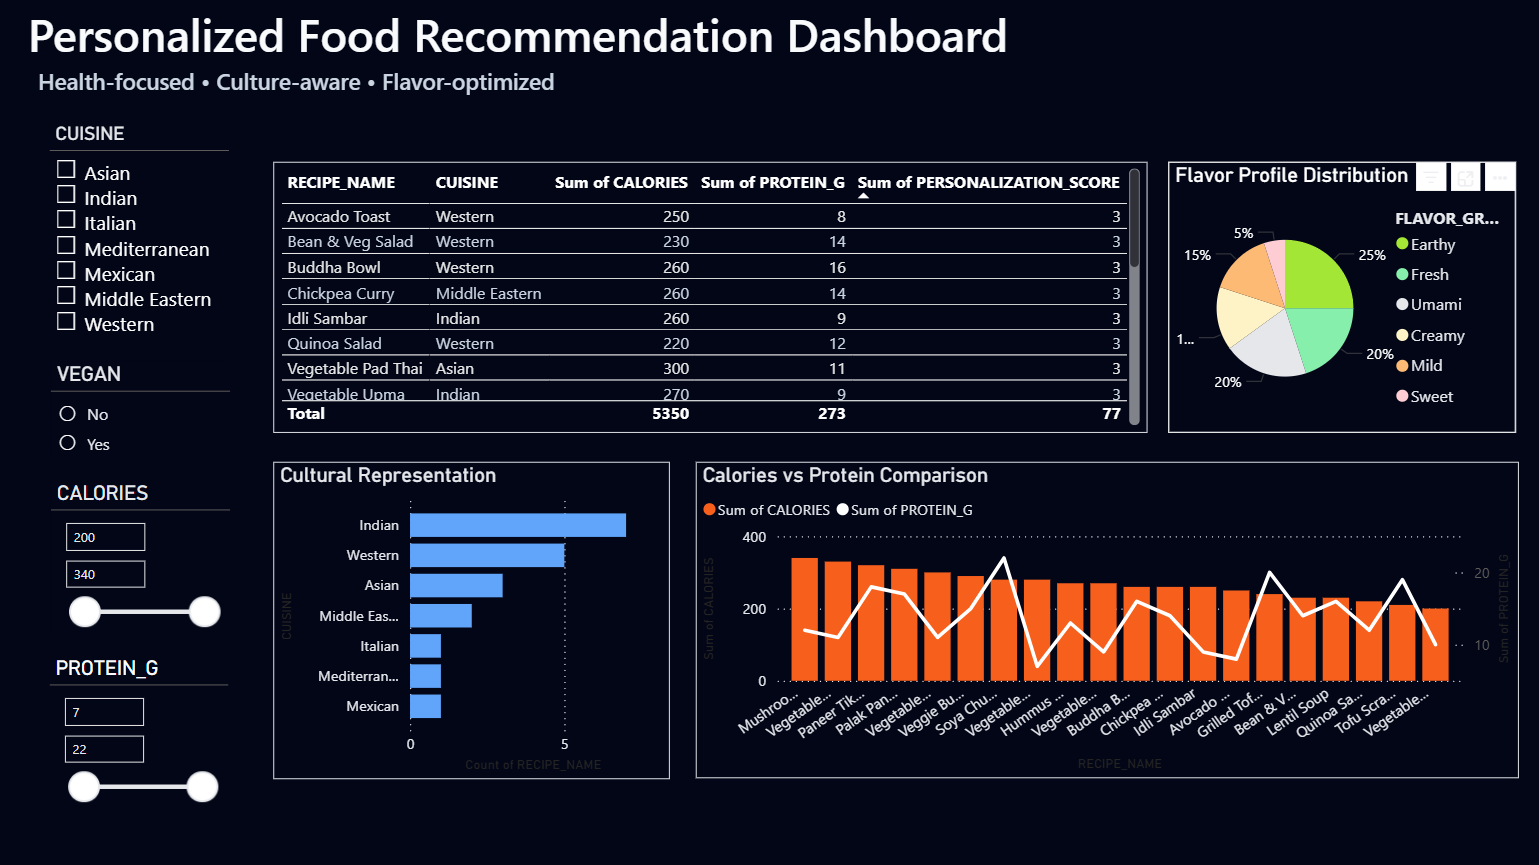

This screenshot's page, from the dashboard's own definition file:
{"tool":"powerbi","page":{"name":"Page 1","canvas":[1280,720],"ordinal":0},"visuals":[{"type":"textbox","box":[10.5,0,1132.6,77.9],"z":0},{"type":"textbox","box":[29.1,52.3,475.6,60.5],"z":1000},{"type":"listSlicer","fields":{"Values":["RECIPES_DB.CUISINE"]},"box":[43,103.5,148.8,186],"z":2000},{"type":"listSlicer","fields":{"Values":["RECIPES_DB.VEGAN"]},"box":[44.2,301.2,148.8,83.7],"z":3000},{"type":"slicer","title":"CALORIES","fields":{"Values":["RECIPES_DB.CALORIES"]},"box":[44.2,400,148.8,130.2],"z":4000},{"type":"slicer","title":"PROTEIN_G","fields":{"Values":["RECIPES_DB.PROTEIN_G"]},"box":[43,545.4,147.7,125.6],"z":5000},{"type":"tableEx","fields":{"Values":["RECIPES_DB.RECIPE_NAME","RECIPES_DB.CUISINE","Sum(RECIPES_DB.CALORIES)","Sum(RECIPES_DB.PROTEIN_G)","Sum(RECIPES_DB.PERSONALIZATION_SCORE)"]},"box":[229.1,136,724.4,224.4],"z":6000},{"type":"pieChart","title":"Flavor Profile Distribution","fields":{"Category":["RECIPES_DB.FLAVOR_GROUP"],"Y":["CountNonNull(RECIPES_DB.RECIPE_NAME)"]},"box":[970.9,136,288.4,224.4],"z":7000},{"type":"lineStackedColumnComboChart","title":"Calories vs Protein Comparison","fields":{"Category":["RECIPES_DB.RECIPE_NAME"],"Y":["Sum(RECIPES_DB.CALORIES)"],"Y2":["Sum(RECIPES_DB.PROTEIN_G)"]},"box":[579.1,384.9,682.6,262.8],"z":8000},{"type":"barChart","title":"Cultural Representation","fields":{"Category":["RECIPES_DB.CUISINE"],"Y":["CountNonNull(RECIPES_DB.RECIPE_NAME)"]},"box":[229,384.5,328.5,263.2],"z":9000}]}

Visuals, with their boxes in screenshot pixels (x1, y1, x2, y2), scaled from the page's 1280x720 canvas onto the 1539x865 screenshot:
textbox: locate(13, 0, 1374, 94)
textbox: locate(35, 63, 607, 136)
listSlicer - RECIPES_DB.CUISINE: locate(52, 124, 231, 348)
listSlicer - RECIPES_DB.VEGAN: locate(53, 362, 232, 462)
"CALORIES" slicer: locate(53, 481, 232, 637)
"PROTEIN_G" slicer: locate(52, 655, 229, 806)
tableEx - RECIPES_DB.RECIPE_NAME x RECIPES_DB.CUISINE: locate(275, 163, 1146, 433)
"Flavor Profile Distribution" pieChart: locate(1167, 163, 1514, 433)
"Calories vs Protein Comparison" lineStackedColumnComboChart: locate(696, 462, 1517, 778)
"Cultural Representation" barChart: locate(275, 462, 670, 778)
